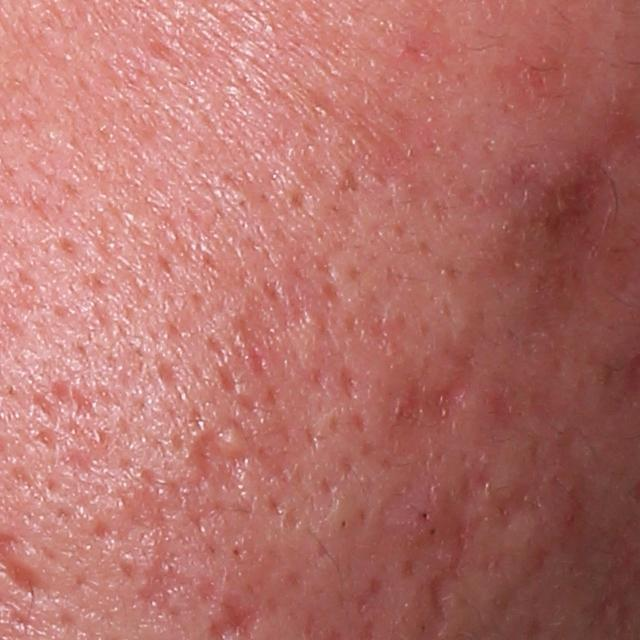atrophic_scar: (376, 363, 475, 536), (113, 468, 221, 625), (239, 206, 313, 338), (29, 374, 112, 476), (213, 356, 256, 424), (232, 321, 271, 386), (151, 355, 179, 389), (91, 522, 115, 549)
